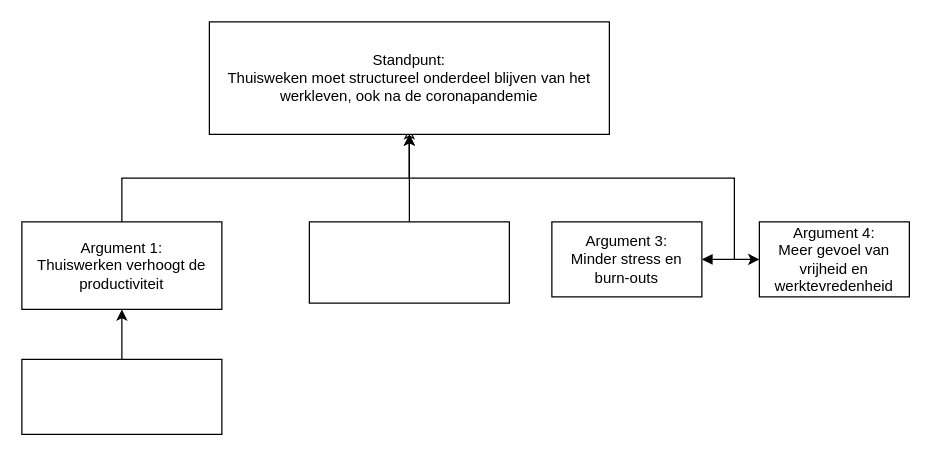
This 931x456 diagram has some shape labels left out. Here are the shapes that lost their labels. From the top down, the centre of each, then its label:
At point 408,262: "Argument 2: Betere werk-privébalans".
At point 121,396: "Subargument: Productiever door minder afleiding thuis".
